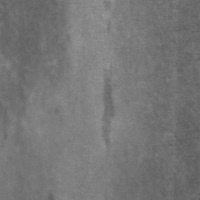inclusion: (1, 1, 70, 122), (98, 63, 121, 154)
